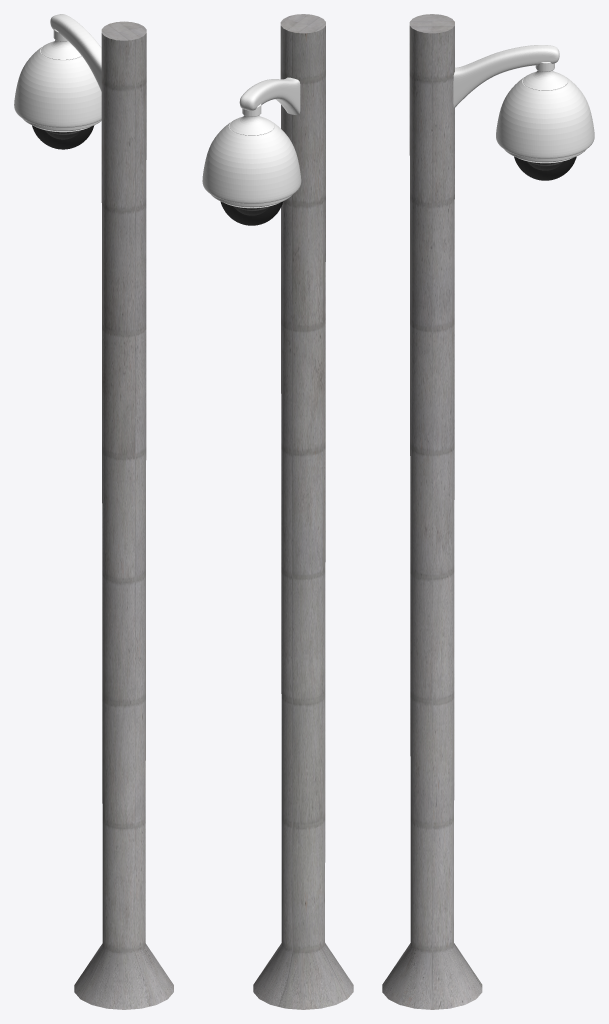
3 views of the same model, side by side, from view 1: azimuth 30°, elevation 25°; view 2: azimuth 150°, elevation 25°; view 3: azimuth 270°, elevation 25° (orthographic).
Parts seen in each view (by area): view 1: SPVSCMSP_0449; view 2: SPVSCMSP_0449; view 3: SPVSCMSP_0449.
Boxes of the visible parts, left/top/right/bottom form: SPVSCMSP_0449: left=14, top=14, right=173, bottom=1009; SPVSCMSP_0449: left=202, top=14, right=353, bottom=1009; SPVSCMSP_0449: left=382, top=14, right=594, bottom=1009.
Size of the model in its own units: 261 by 2627 by 524.
